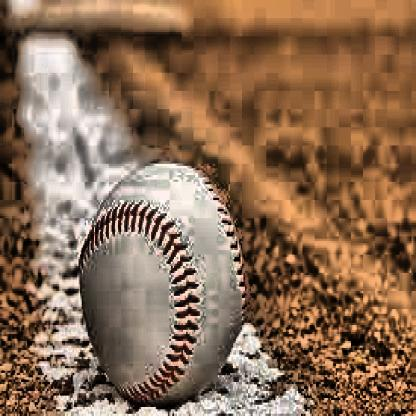baseball: (79, 160, 256, 404)
